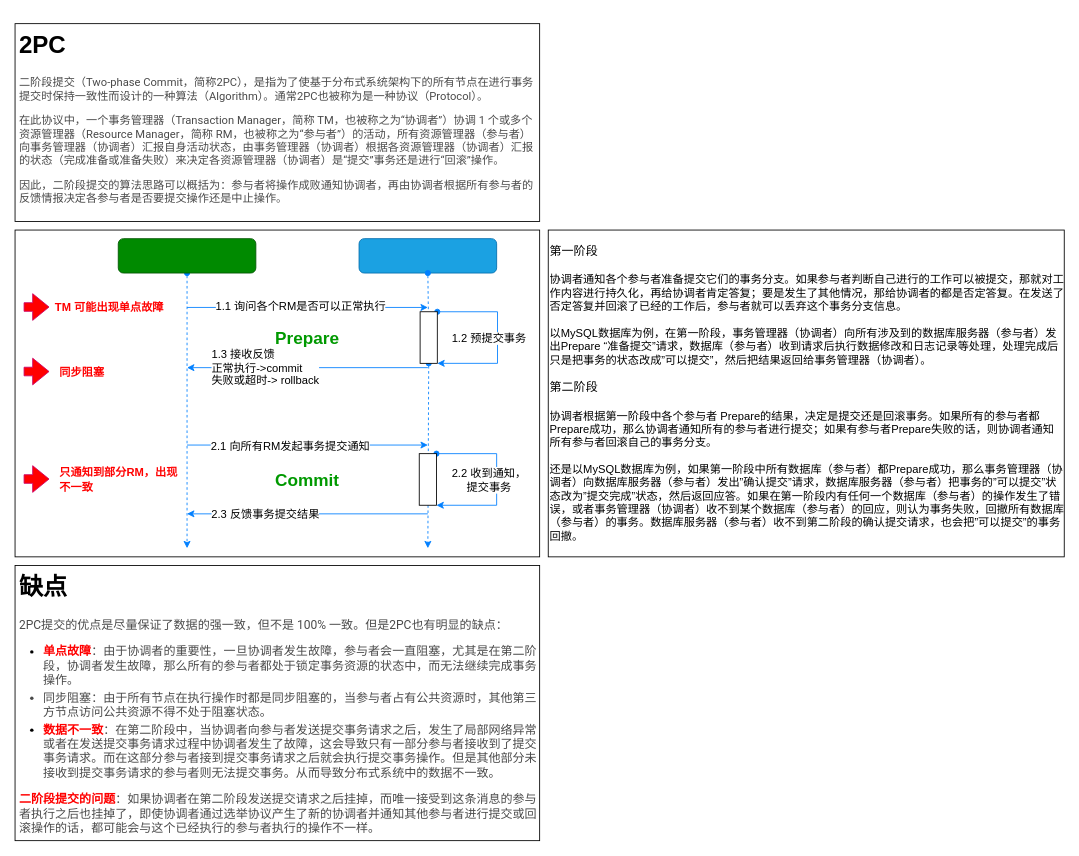
Image size: 1079x856. Some labels were removed from this diagram. The centre of each missing label's shape, as x and y in pixels:
"事务管理器 TM (协调者)" goes at (x=186, y=255).
"资源管理器 RM (参与者)" goes at (x=427, y=255).
